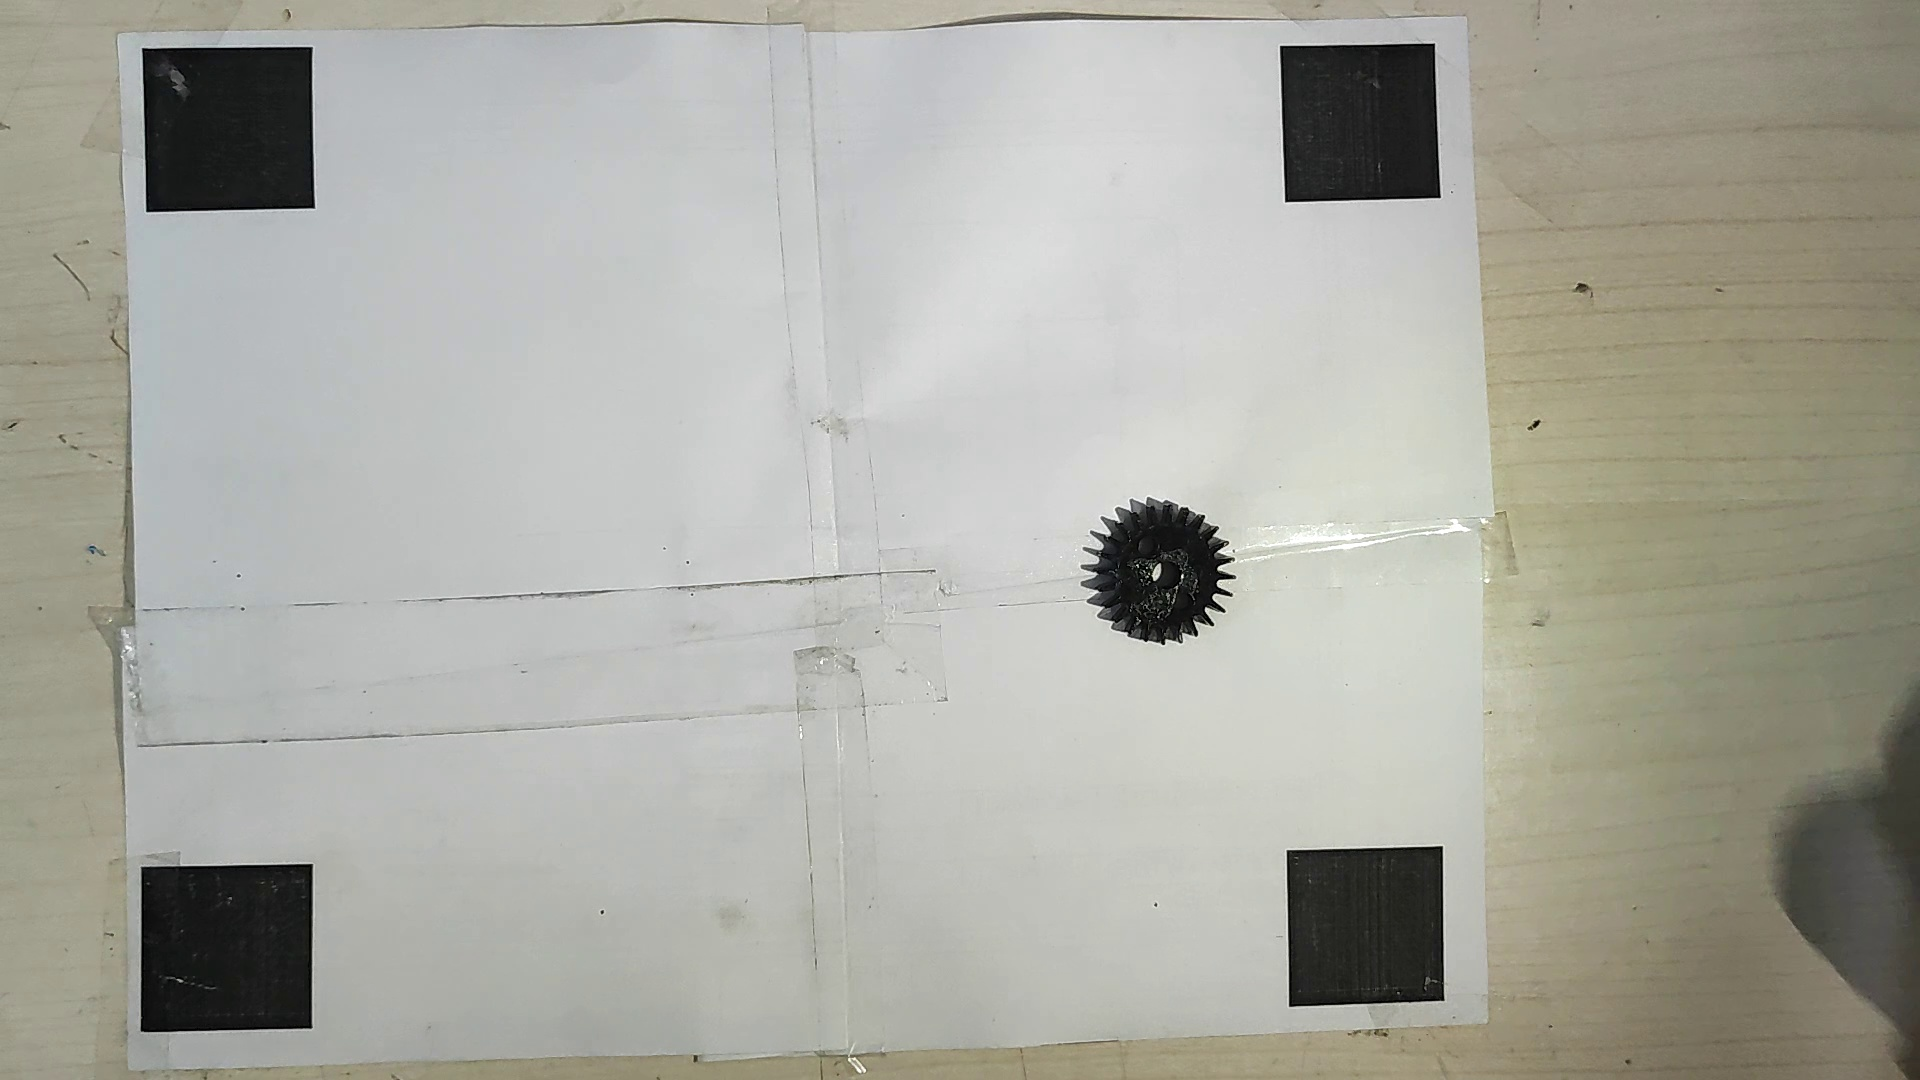Gear: (1073, 495, 1237, 646)
